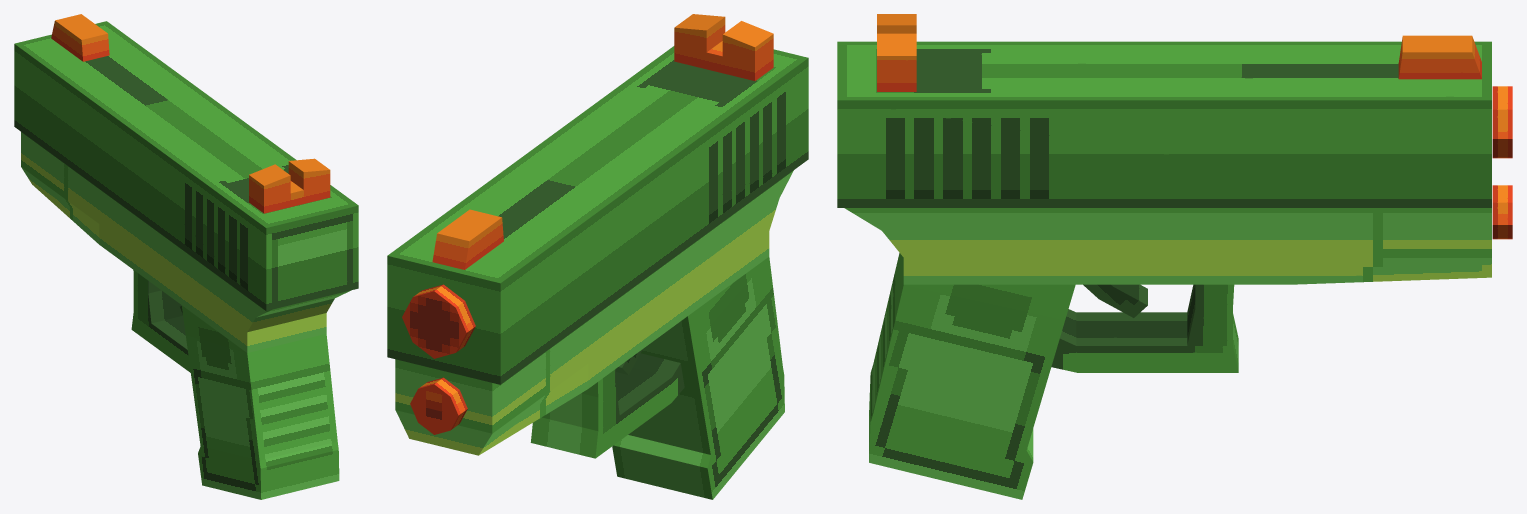
The model's file is glock-19-green.gltf.
3 renders of one model, left to right at view 1: azimuth 30°, elevation 25°; view 2: azimuth 150°, elevation 25°; view 3: azimuth 270°, elevation 25°, orthographic. The views are drawn at different scales.
Parts seen in each view (by area): view 1: cube (×8); view 2: cube (×10); view 3: cube (×10).
Part boxes in pixels (<box>): cube (×8): <box>14,14,358,499</box>; cube (×10): <box>387,14,808,499</box>; cube (×10): <box>837,14,1512,499</box>.
Bounding box in the file's own units: 0.2188 × 0.7746 × 1.06.
1 material, 1 textured.
